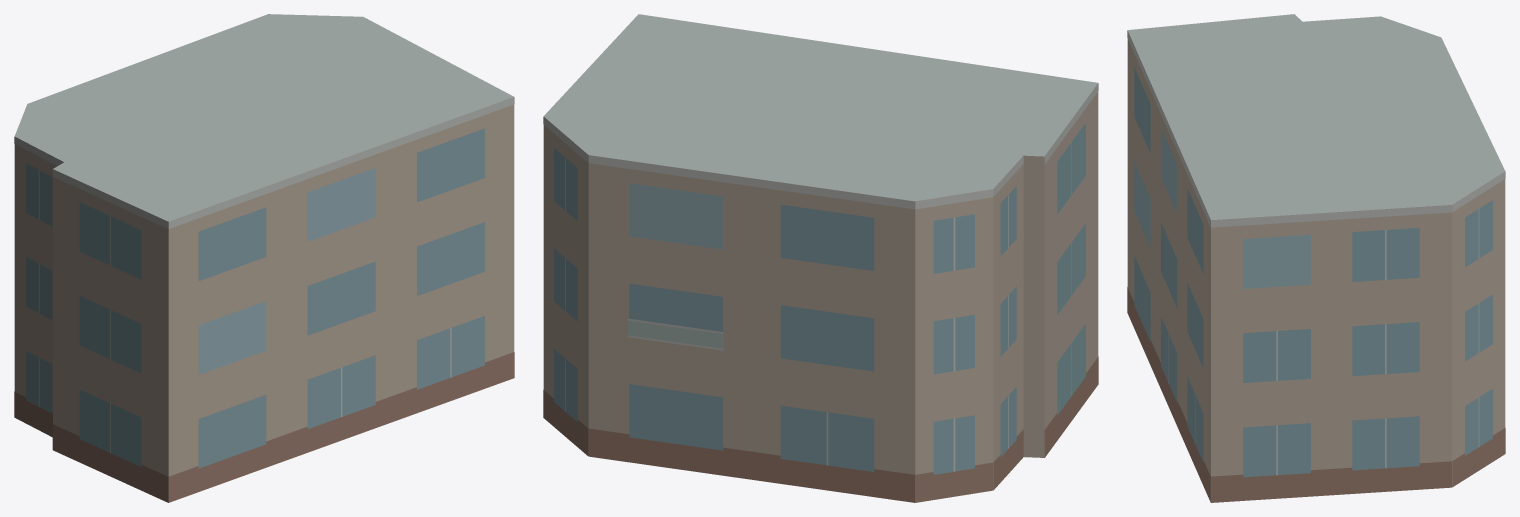
Rendered from survey-upis-32577327.glb.
The picture shows the model from 3 angles, left to right: view 1: azimuth 30°, elevation 25°; view 2: azimuth 150°, elevation 25°; view 3: azimuth 270°, elevation 25°; orthographic projection. The views are drawn at different scales.
Parts seen in each view (by area): view 1: survey-upis-32577327.tmp; view 2: survey-upis-32577327.tmp; view 3: survey-upis-32577327.tmp.
Part boxes in pixels (x1=…): survey-upis-32577327.tmp: x1=14, y1=14, x2=514, y2=502; survey-upis-32577327.tmp: x1=543, y1=14, x2=1098, y2=502; survey-upis-32577327.tmp: x1=1127, y1=14, x2=1505, y2=502.
Size of the model in its own units: 14.32 by 9.15 by 11.1.
